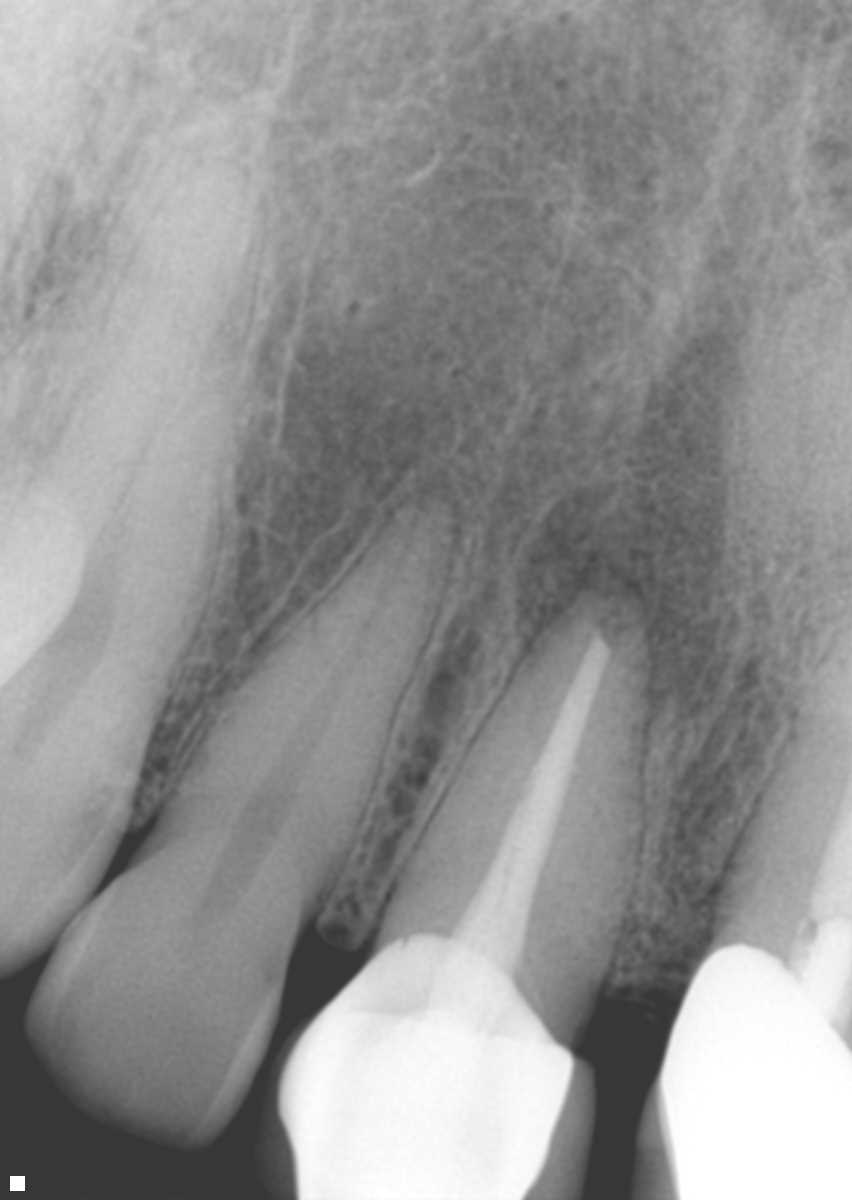Apical Lesion: (516, 335, 739, 695)
Main Canal: (217, 504, 433, 883), (23, 342, 182, 702)
Main Root: (0, 150, 262, 768), (149, 491, 459, 909), (377, 575, 656, 996), (706, 640, 852, 1026)
Root Canal Filling: (446, 632, 613, 979), (785, 809, 851, 1003)
